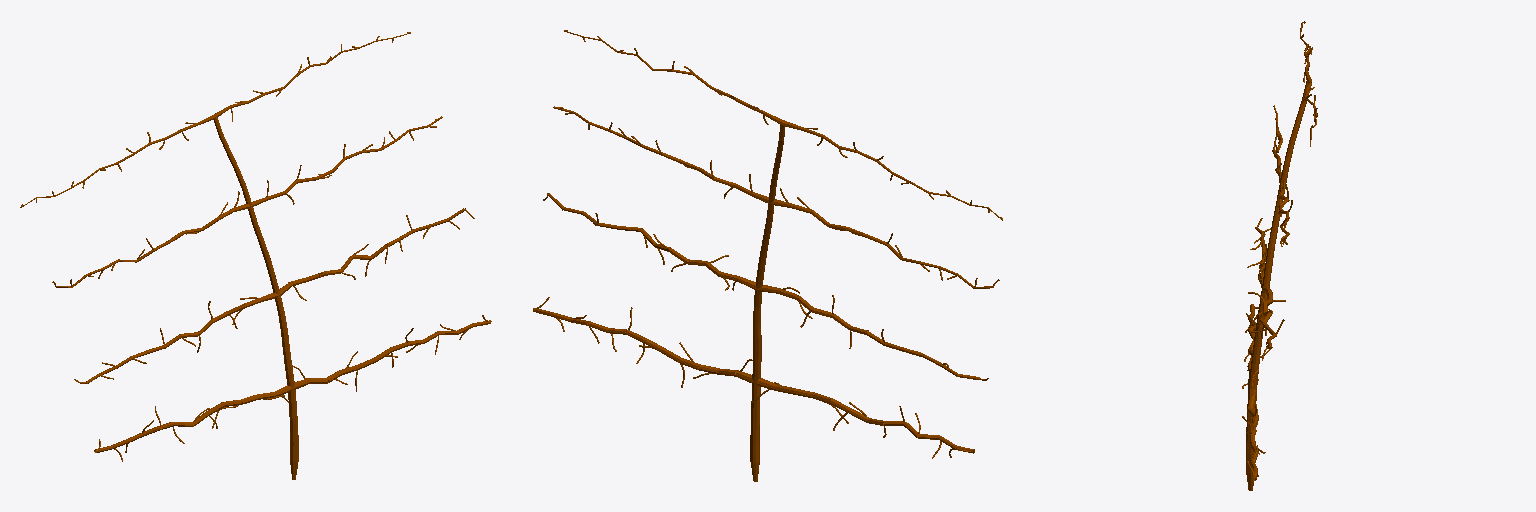
URDF robot description (robot):
<robot name="robot">

  <material name="blue">
  <color rgba="0 1 1 1"/>
  </material>

  <material name="green">
  <color rgba="0 .5 0 1"/>
  </material>

  <material name="red">
  <color rgba="1 0.6 0 1"/>
  </material>

  <link name="appletree">
      <visual>
        <origin rpy="0 0 0" xyz="0 0 0"/>
        <geometry>
  				<mesh filename="tree.obj" scale="1 1 1"/>
        </geometry>
         <material name="white">
          <color rgba=".58 .3 0 1"/>
        </material>
      </visual>
      <collision concave="yes">
        <origin rpy="0 0 0" xyz="0 0 0"/>
       <geometry>
  				<mesh filename="tree.obj" scale="1 1 1"/>
        </geometry>
      </collision>
    </link>


<link name="world"/>


  <joint name="tree_joint" type="fixed">
    <parent link="world"/>
    <child link="appletree"/>
    <origin xyz="0 0 0" rpy="0 0 0" />
    <axis xyz="0 0 0" />
  </joint>

  </robot>

--- What the picture shows (computed from the rendered views, not written in the file) ---
Views: 3 orthographic renders of the robot side by side, from view 1: azimuth 30°, elevation 25°; view 2: azimuth 150°, elevation 25°; view 3: azimuth 270°, elevation 25°.
Model robot with 2 links and 1 joints (1 fixed), rooted at world, posed all joints at 0.
Links seen in each view (by area): view 1: appletree; view 2: appletree; view 3: appletree.
Boxes of the visible links, x1=… form: appletree: x1=20, y1=32, x2=491, y2=479; appletree: x1=533, y1=30, x2=1002, y2=481; appletree: x1=1242, y1=21, x2=1317, y2=490.
Size in the robot's own frame: 25.55 by 3.52 by 21.56 metres.
Meshes: 1 distinct files referenced, 1 mesh visuals loaded (1 OBJ).